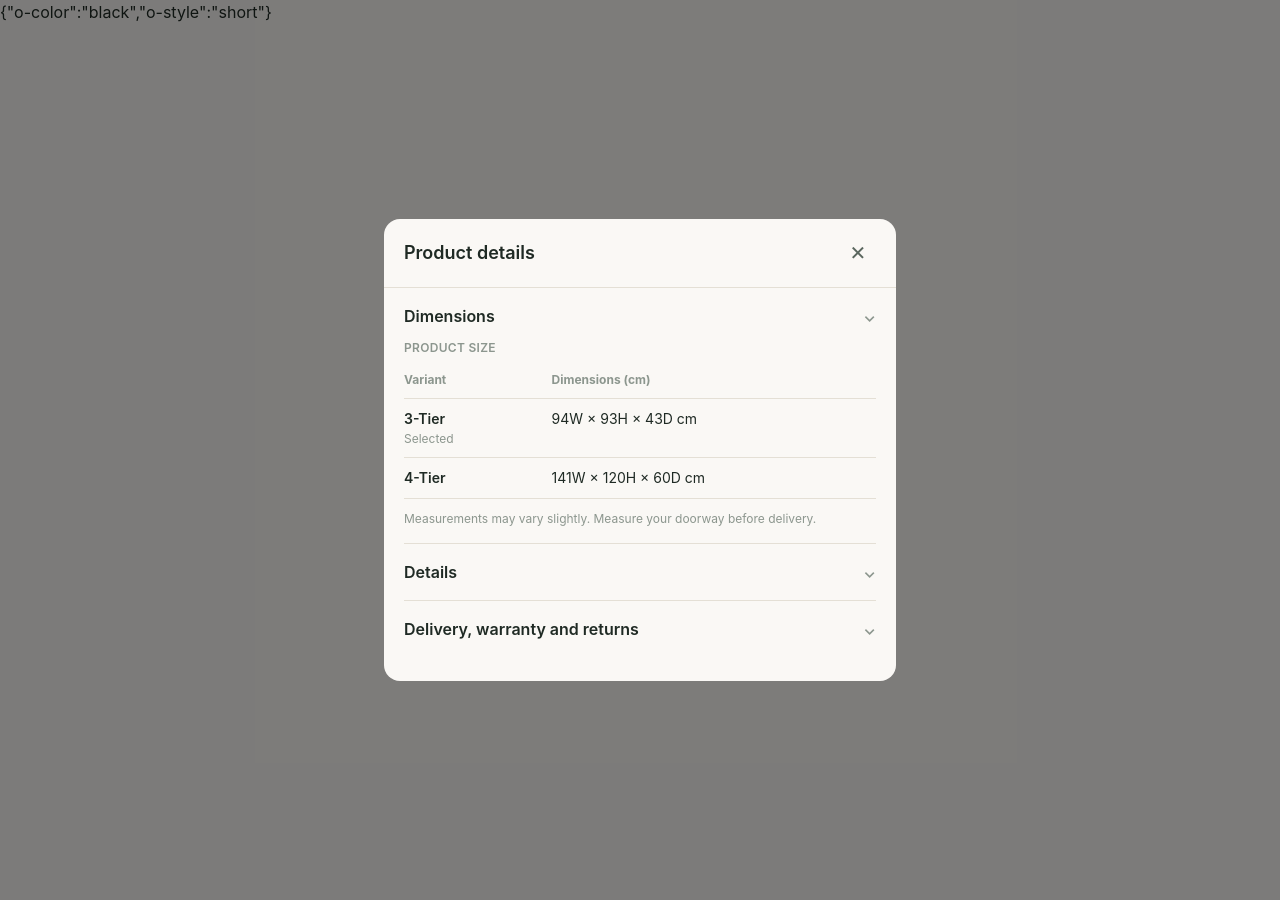
Test: ProductDetailsModal › lists every real weight when the variants differ instead of following one SKU
Click the heading "Details ⌄": [431, 572] box x1=404 y1=560 x2=876 y2=584
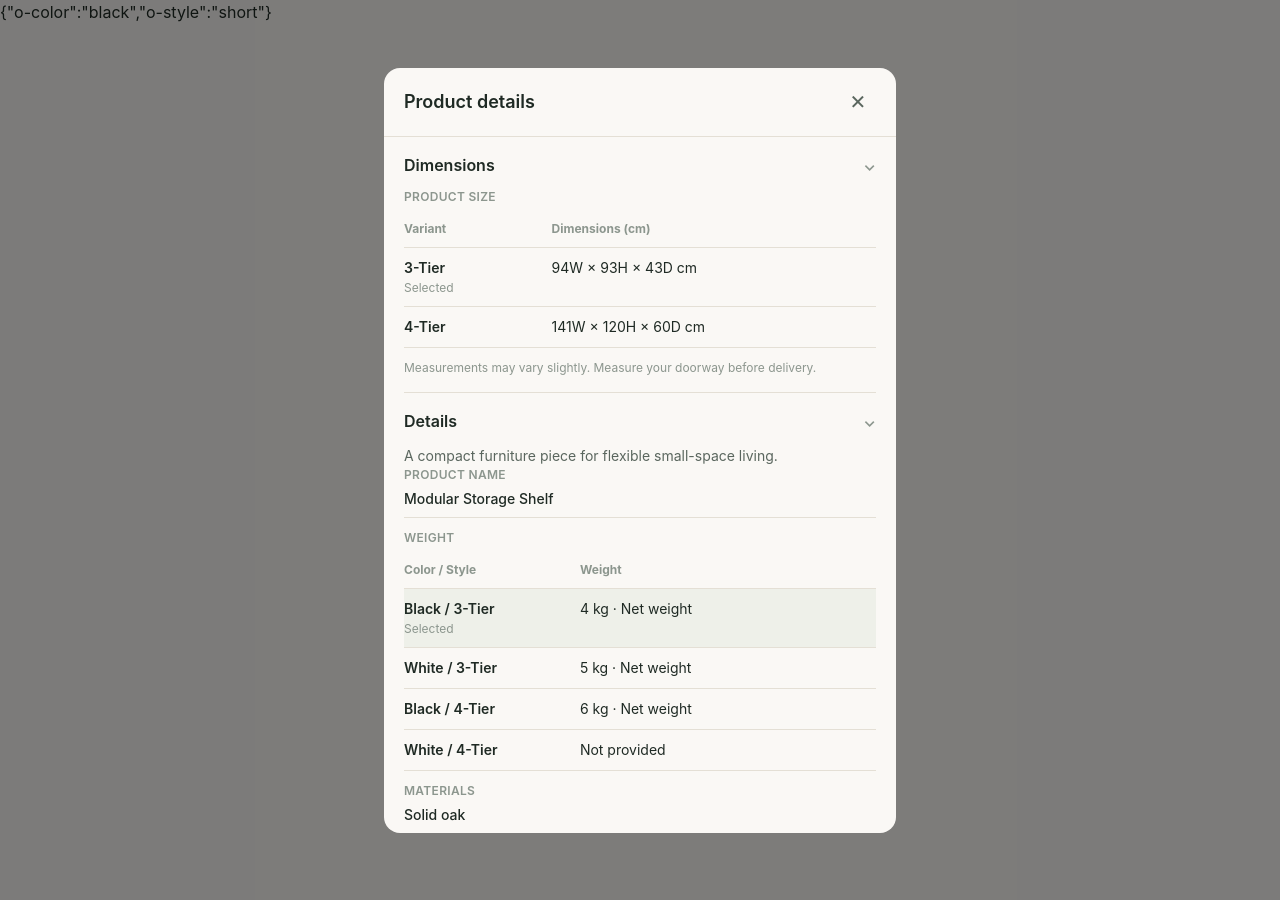
Expected: the column headings read "Color / Style", "Weight", in this order, x1=404 y1=552 x2=574 y2=589; x1=574 y1=552 x2=876 y2=589
